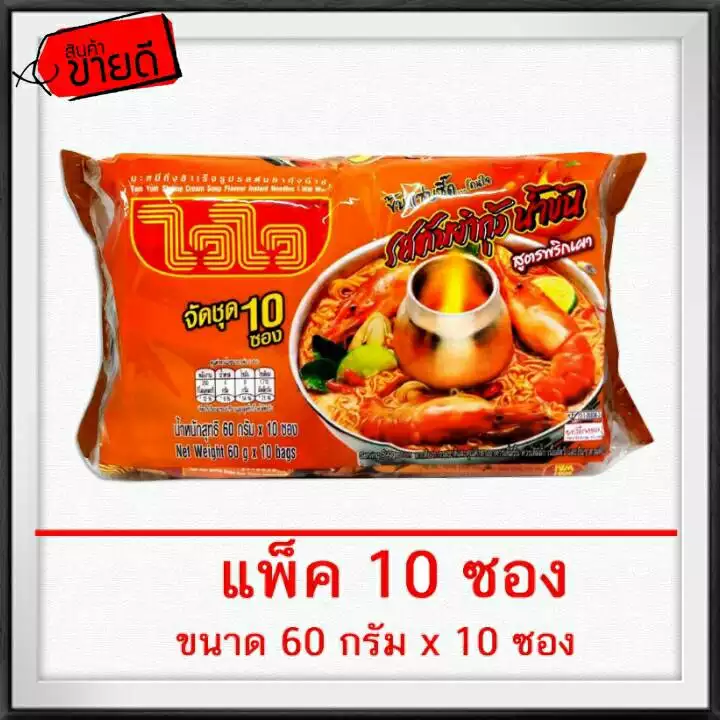Snack: (49, 141, 661, 488)
